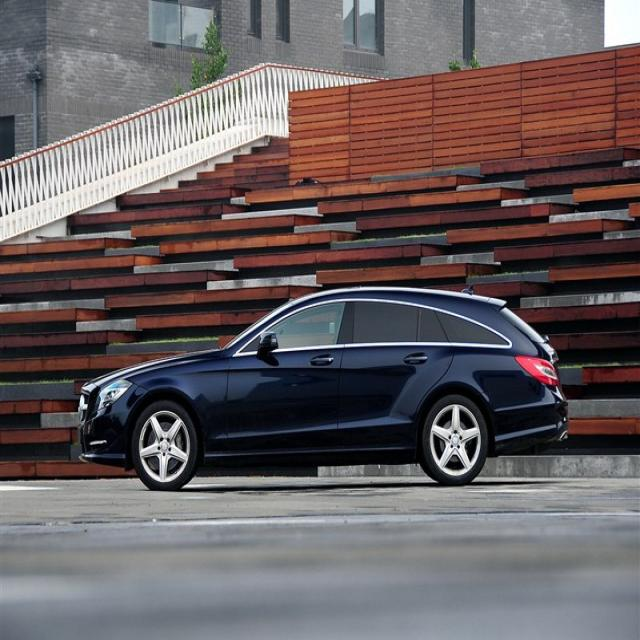back_left_side_light: (514, 353, 560, 386)
door: (336, 297, 458, 468)
front_bumper: (78, 388, 130, 465)
front_left_side_door: (225, 290, 350, 459)
front_left_side_light: (91, 377, 133, 414)
front_left_side_mirror: (260, 332, 280, 359)
rear_bumper: (491, 383, 568, 455)
wheel: (421, 395, 487, 485), (132, 399, 196, 490)
